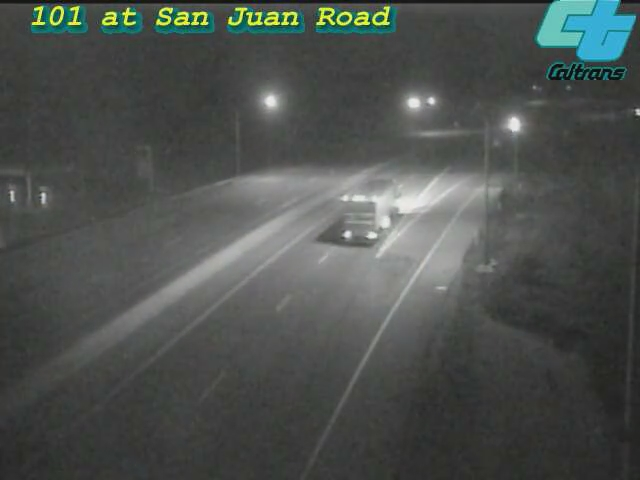vehicle: (332, 172, 412, 252), (491, 100, 541, 150)
